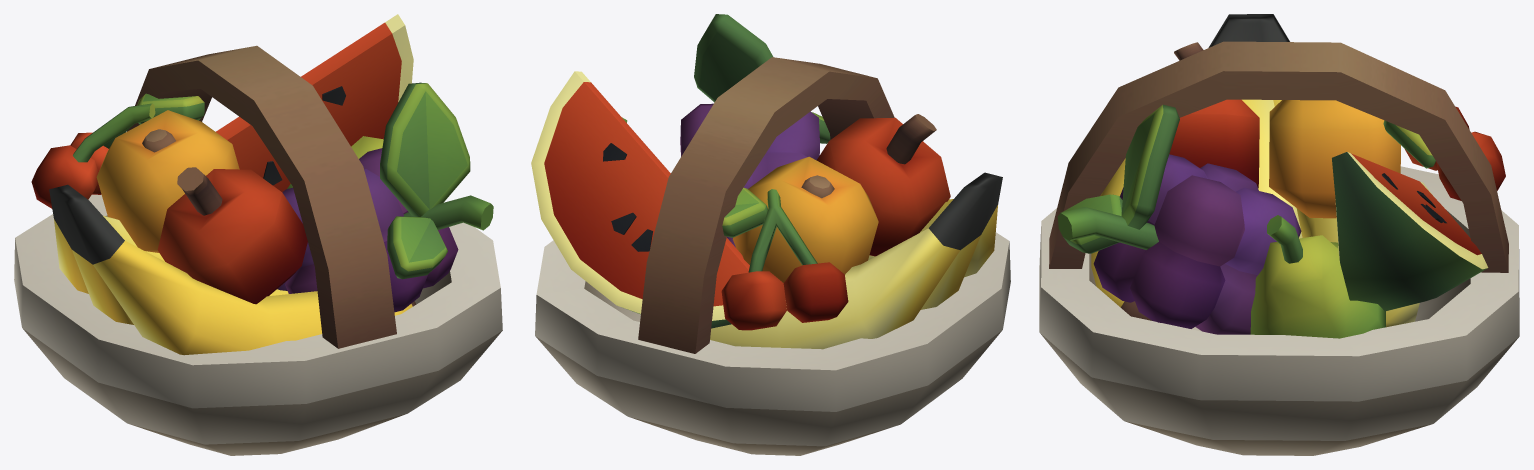
The model's file is basket_fruit.fbx.
The picture shows the model from 3 angles, left to right: view 1: azimuth 30°, elevation 25°; view 2: azimuth 150°, elevation 25°; view 3: azimuth 270°, elevation 25°; orthographic projection. The views are drawn at different scales.
Visible parts, largest first — view 1: basket_fruit; view 2: basket_fruit; view 3: basket_fruit.
Boxes of the visible parts, x1,y1,x2,y2 form: basket_fruit: (14,14,502,455); basket_fruit: (531,14,1010,455); basket_fruit: (1039,14,1519,455).
Size of the model in its own units: 65.03 by 51.98 by 62.78.
